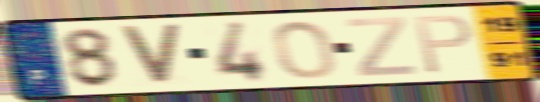4: (214, 19, 267, 84)
8: (60, 27, 122, 89)
O: (270, 19, 338, 80)
P: (412, 13, 475, 76)
V: (115, 23, 184, 87)
Z: (343, 15, 418, 78)
